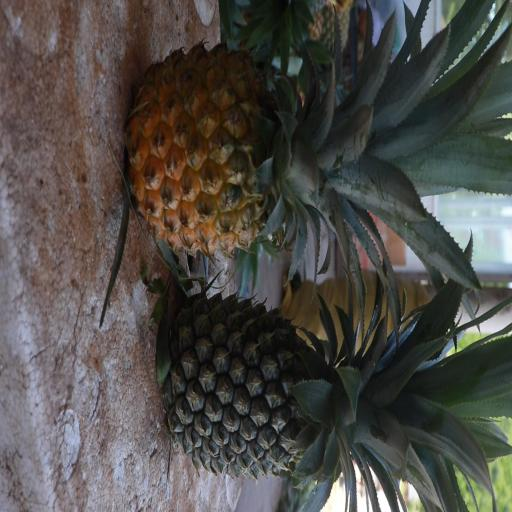Pineapple - v8 v1: (136, 52, 452, 252)
